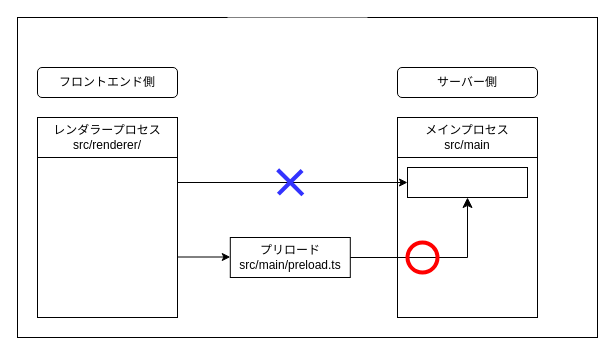
The diagram is 615 pixels wide and 355 high, and some of its shapes have lost their labels. Each missing label, with the box of its shape:
electron: (227, 17, 367, 47)
SQLite: (406, 166, 528, 198)
